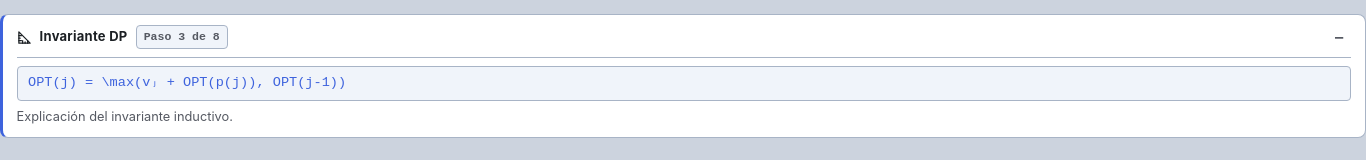
Test: InvariantInspectorCallout Component › renders invariant formula with math typography and step counter
Click the button with class "invariant-toggle-btn".
click(1339, 37)  # box [1327,25,1351,49]
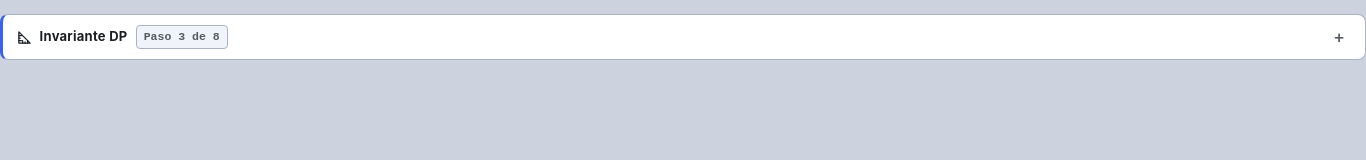
Result: the element with class "invariant-callout-body" is gone
Click the button with class "invariant-toggle-btn".
click(1339, 37)  # box [1327,25,1351,49]
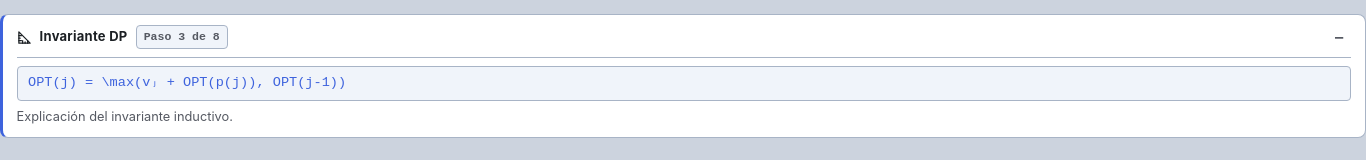
Result: the element with class "invariant-callout-body" is shown at [17,57,1351,126]
